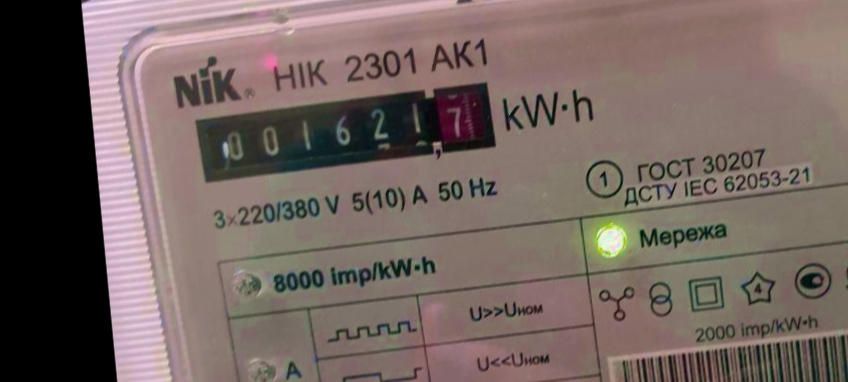0: (258, 121, 284, 160), (224, 127, 247, 163)
1: (408, 98, 425, 136), (298, 116, 315, 153)
2: (368, 105, 393, 143)
6: (332, 113, 354, 148)
7: (443, 103, 467, 141)
screen: (190, 79, 504, 188)
